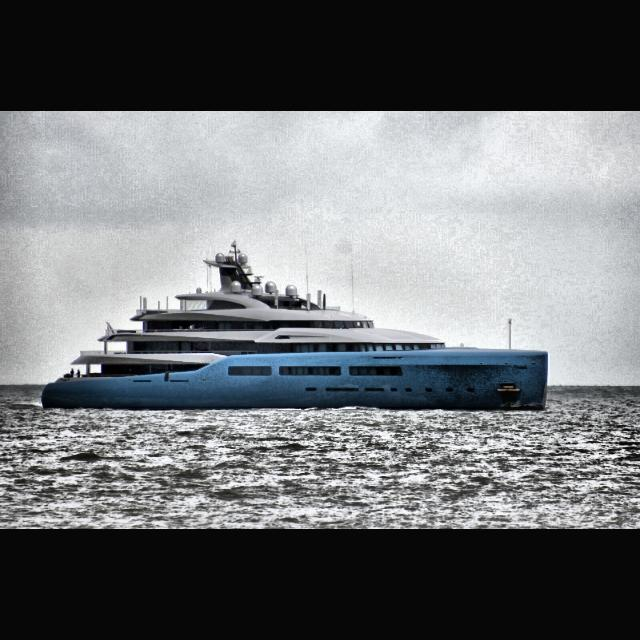yacht: (41, 240, 549, 410)
